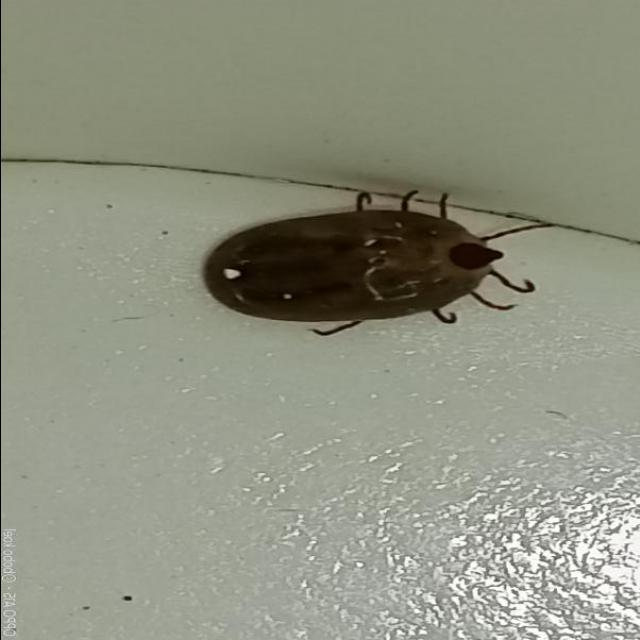Rhipicephalus Sanguineus-F-Fed: (202, 189, 553, 342)
